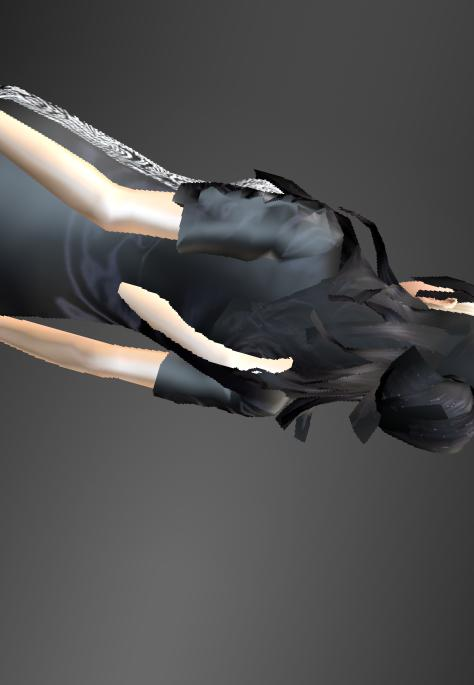clip: (110, 274, 217, 342)
